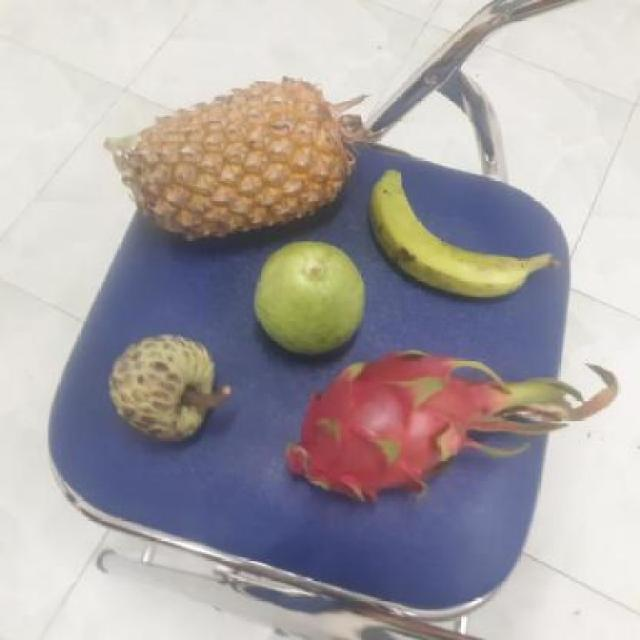banana: (360, 171, 528, 304)
dragon fruit: (278, 352, 499, 496)
guava: (246, 239, 366, 355)
pineapple: (123, 81, 348, 245)
sugar apple: (103, 337, 220, 441)
